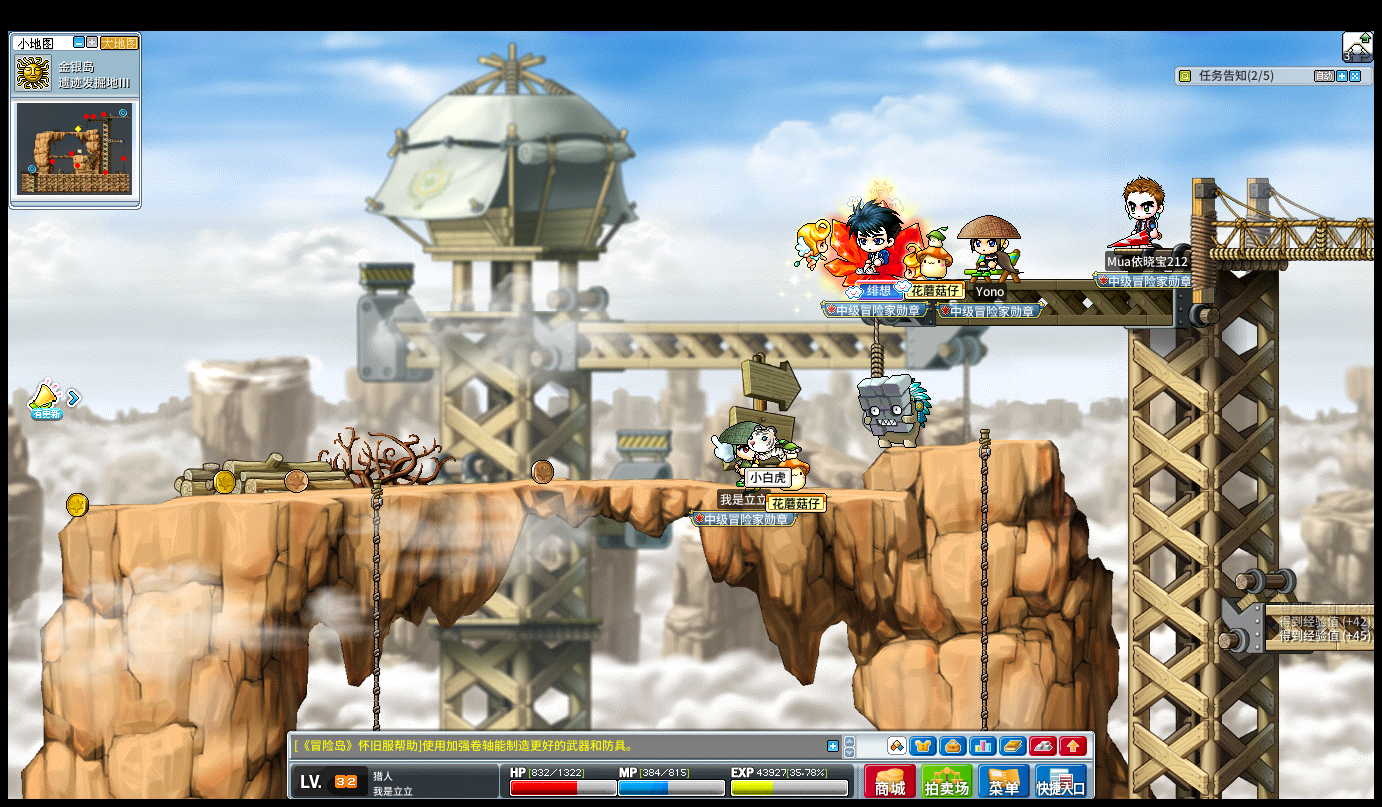floor: (67, 475, 940, 507), (77, 476, 953, 498), (895, 436, 1058, 451), (901, 439, 1061, 453)
monster: (857, 372, 932, 449)
rope: (367, 472, 382, 807), (976, 426, 991, 722), (368, 476, 382, 745)
